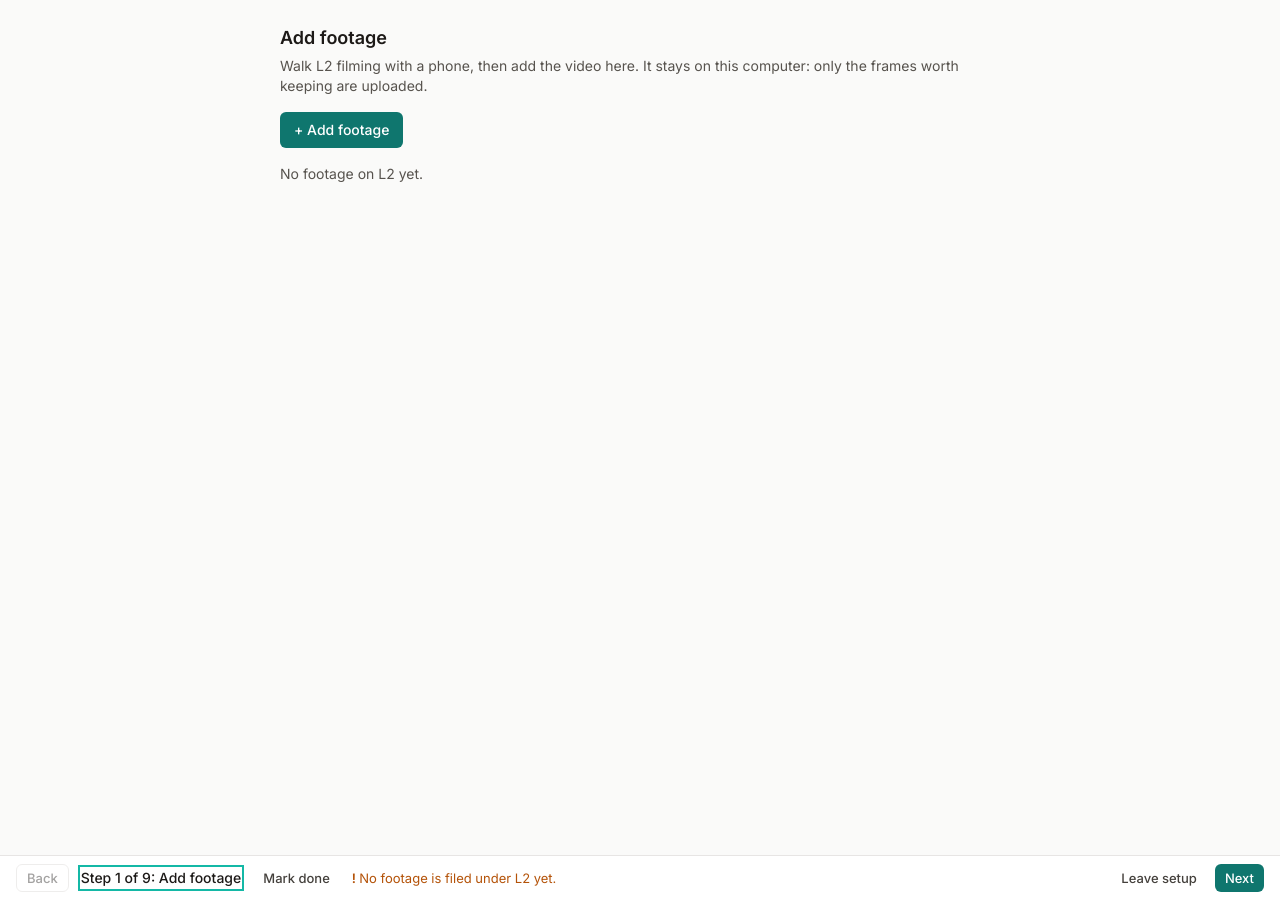
SetupWizard › puts the focus on where you are as the step changes
The width and height of the screenshot is (1280, 900).
Expected: the heading "Add footage" is shown, [280,27,387,48]
Click the button "Next" at (1239, 878), box [1215,864,1264,892]
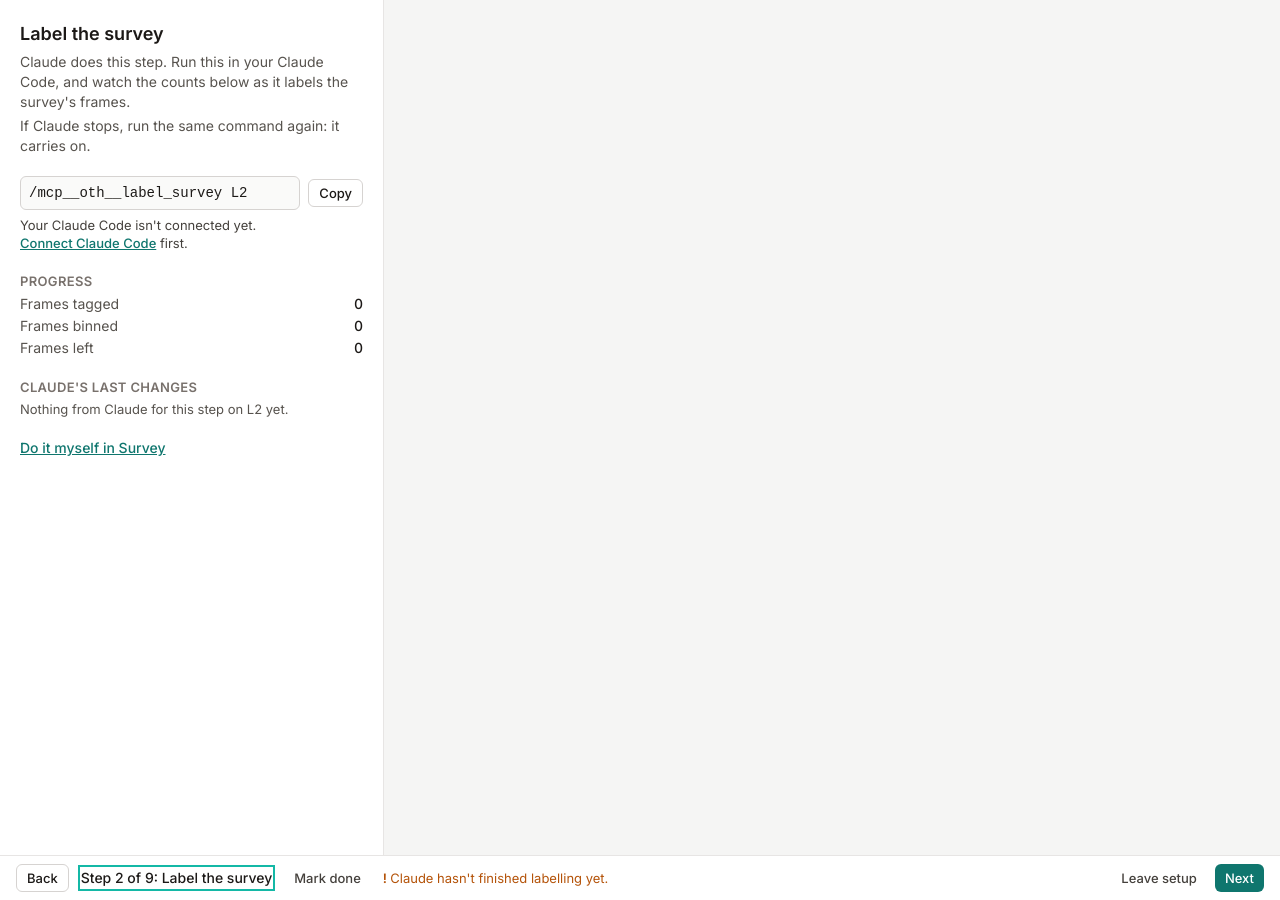
Result: the text "Step 2 of 9: Label the survey" is shown at [81,868,272,888]
